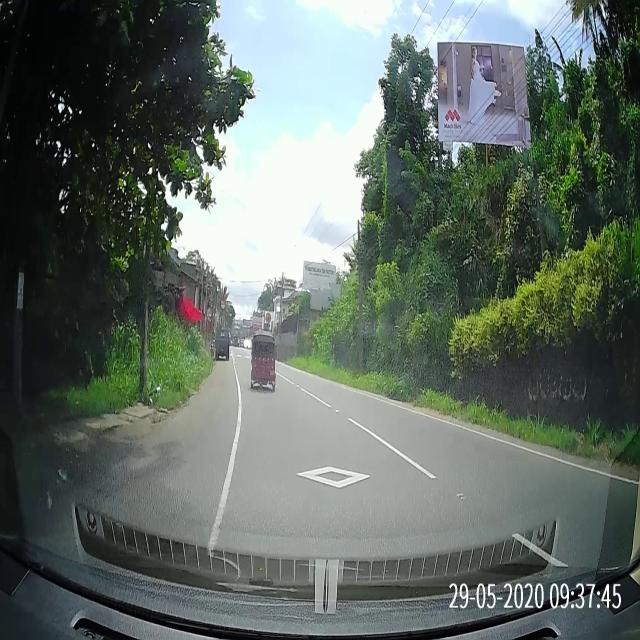diamond: (217, 430, 449, 495)
